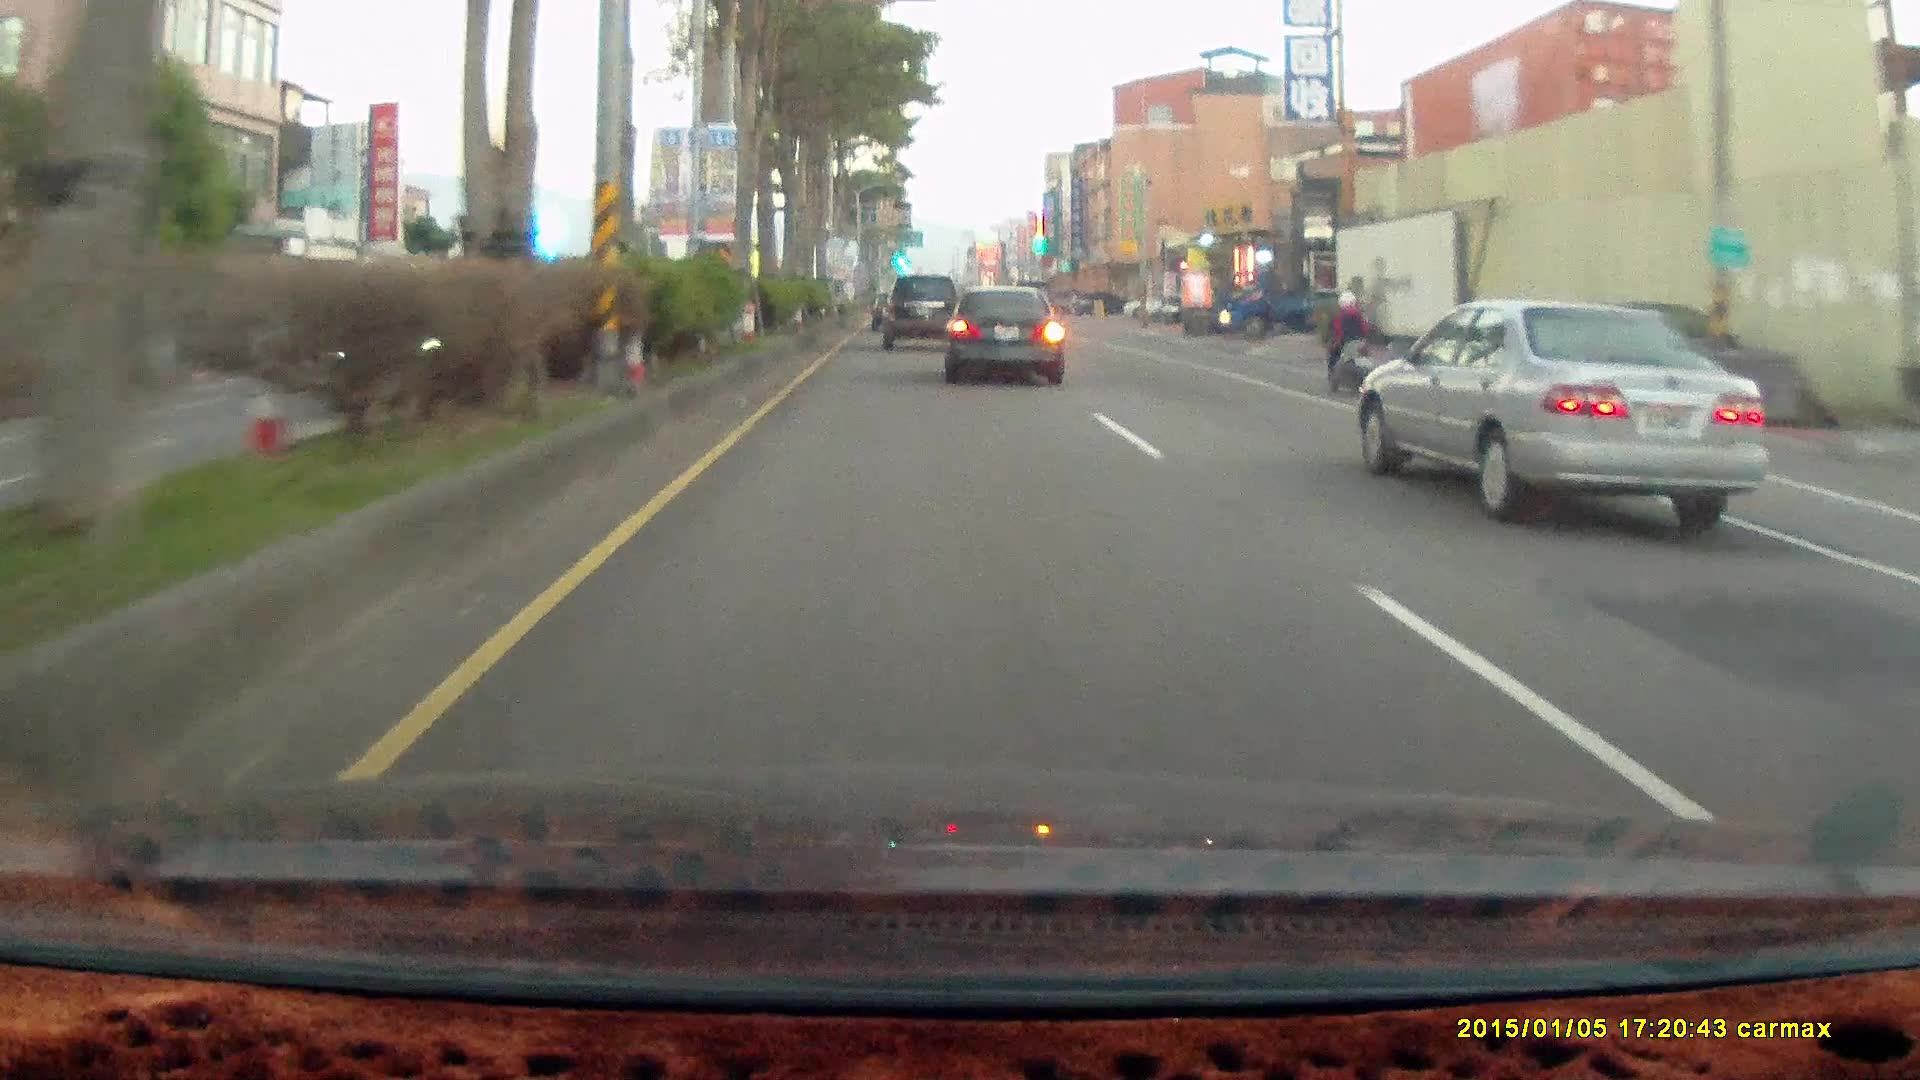rider: (1314, 286, 1384, 403), (1322, 287, 1382, 397)
vehicle: (1357, 297, 1764, 528), (1363, 300, 1775, 525), (940, 286, 1065, 386), (946, 293, 1072, 391), (1215, 266, 1348, 340), (1215, 271, 1351, 339), (881, 279, 962, 353), (882, 277, 961, 348), (1072, 294, 1128, 318), (1119, 295, 1175, 319)
